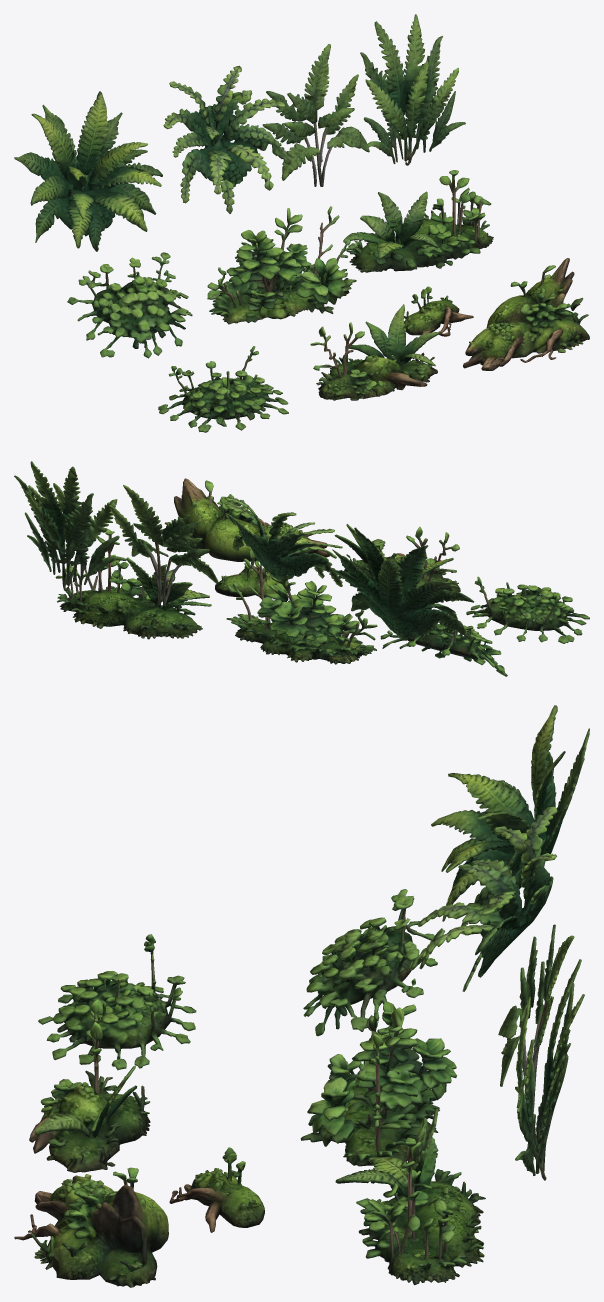
File: portal_11.glb
3 renders of one model, top to bottom at view 1: azimuth 30°, elevation 25°; view 2: azimuth 150°, elevation 25°; view 3: azimuth 270°, elevation 25°, orthographic. The views are drawn at different scales.
Size of the model in its own units: 0.9994 by 0.4365 by 0.7578.
1 material, 1 textured.
